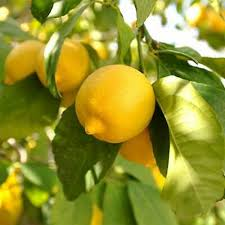orange: (75, 62, 160, 142)
